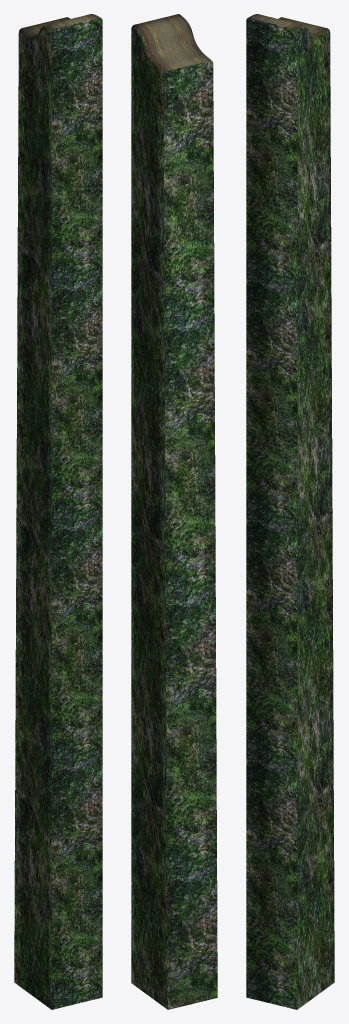
The model's file is Drop ramp road.fbx.
3 renders of one model, left to right at view 1: azimuth 30°, elevation 25°; view 2: azimuth 210°, elevation 25°; view 3: azimuth 330°, elevation 25°, orthographic. The views are drawn at different scales.
Visible parts, largest first — view 1: Drop ramp; view 2: Drop ramp; view 3: Drop ramp.
Part boxes in pixels (bbox=[...]): Drop ramp: bbox=[14, 14, 102, 1009]; Drop ramp: bbox=[131, 14, 217, 1009]; Drop ramp: bbox=[246, 14, 334, 1009].
Size of the model in its own units: 410 by 7538 by 524.
